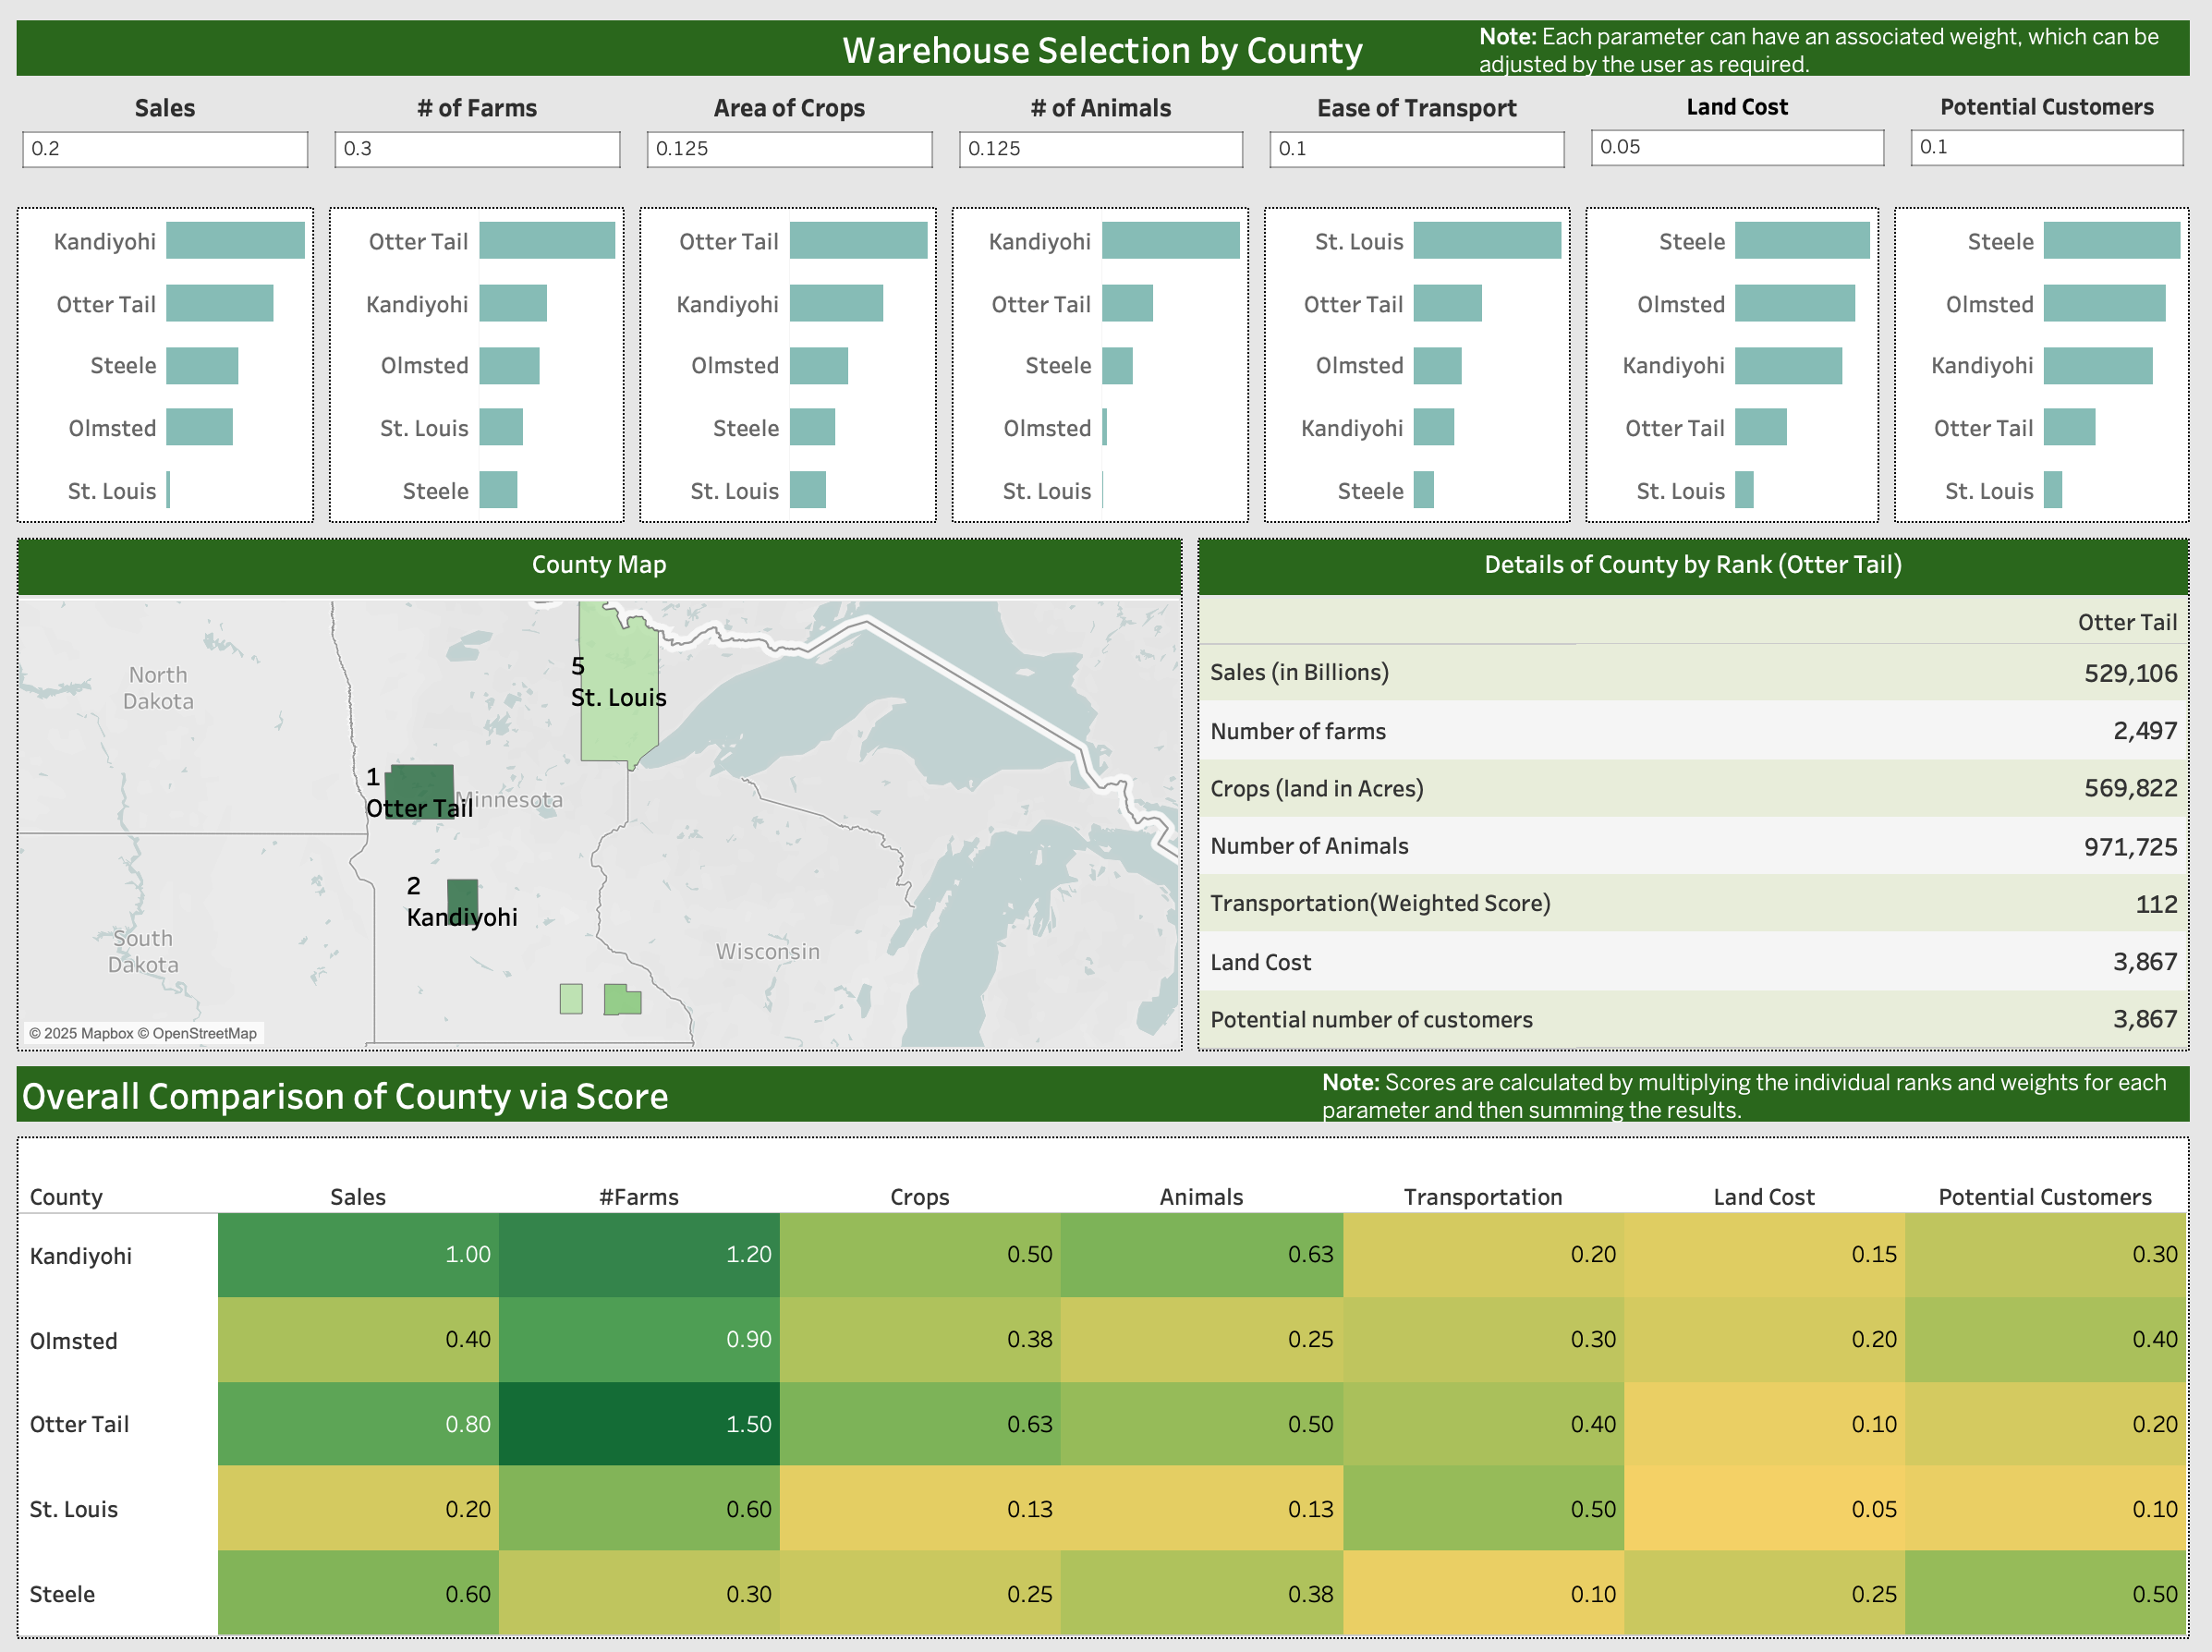

Layout of this report page (visuals, bound fields, positions):
{"tool":"tableau","page":{"name":"Final Dashboard","canvas":[1200,900],"ordinal":3},"visuals":[{"type":"text","box":[8,8,1184,38]},{"type":"text","box":[801,13,400,49]},{"type":"parameter","param":"[Parameters].[Parameter 1]","box":[8,46,169,63]},{"type":"parameter","param":"[Parameters].[Parameter 2]","box":[177,46,169,63]},{"type":"parameter","param":"[Parameters].[Parameter 3]","box":[346,46,169,63]},{"type":"parameter","param":"[Parameters].[Parameter 4]","box":[515,46,168,63]},{"type":"parameter","param":"[Parameters].[Parameter 5]","box":[683,46,174,53]},{"type":"parameter","param":"[Parameters].[Parameter 6]","box":[857,46,172.8,62.7]},{"type":"parameter","param":"[Parameters].[Parameter 7]","box":[1029.8,46,162.2,62.7]},{"type":"worksheet","title":"farms (2)","mark":"Bar","rows":["County"],"cols":["Sales"],"box":[8,108.7,169,179]},{"type":"worksheet","title":"farms (3)","mark":"Bar","rows":["County"],"cols":["Number of farms"],"box":[177,108.7,168,179]},{"type":"worksheet","title":"farms (4)","mark":"Bar","rows":["County"],"cols":["Capacity of crops (land)"],"box":[345,108.7,169,179]},{"type":"worksheet","title":"farms (5)","mark":"Bar","rows":["County"],"cols":["Capacity of animals"],"box":[514,108.7,169,179]},{"type":"worksheet","title":"farms (6)","mark":"Bar","rows":["County"],"cols":["Feasibility of Transportation"],"box":[683,108.7,174,179]},{"type":"worksheet","title":"farms (7)","mark":"Bar","rows":["County"],"cols":["Land Cost"],"box":[857,108.7,167,179]},{"type":"worksheet","title":"farms (8)","mark":"Bar","rows":["County"],"cols":["Potential number of customers"],"box":[1024,108.7,168,179]},{"type":"worksheet","title":"Sheet 1 (2)","mark":"Multipolygon","box":[8,287.8,639,286.2]},{"type":"worksheet","title":"Sheet 4 (2)","mark":"Automatic","cols":["County"],"box":[647,287.8,545,286.2]},{"type":"text","box":[716,571,472,48]},{"type":"text","box":[8,574,1184,38]},{"type":"worksheet","title":"Sheet 4","mark":"Square","rows":["County"],"box":[8,612,1184,280]}]}

Visuals, with their boxes in screenshot pixels (x1, y1, x2, y2), scaled from the page's 1200x900 canvas onto the 2212x1652 screenshot:
text: [15,15,2197,84]
text: [1477,24,2211,114]
parameter: [15,84,326,200]
parameter: [326,84,638,200]
parameter: [638,84,949,200]
parameter: [949,84,1259,200]
parameter: [1259,84,1580,182]
parameter: [1580,84,1898,200]
parameter: [1898,84,2197,200]
"farms (2)" worksheet (Bar marks): [15,200,326,528]
"farms (3)" worksheet (Bar marks): [326,200,636,528]
"farms (4)" worksheet (Bar marks): [636,200,947,528]
"farms (5)" worksheet (Bar marks): [947,200,1259,528]
"farms (6)" worksheet (Bar marks): [1259,200,1580,528]
"farms (7)" worksheet (Bar marks): [1580,200,1888,528]
"farms (8)" worksheet (Bar marks): [1888,200,2197,528]
"Sheet 1 (2)" worksheet (Multipolygon marks): [15,528,1193,1053]
"Sheet 4 (2)" worksheet: [1193,528,2197,1053]
text: [1319,1048,2190,1136]
text: [15,1053,2197,1124]
"Sheet 4" worksheet (Square marks): [15,1124,2197,1637]
